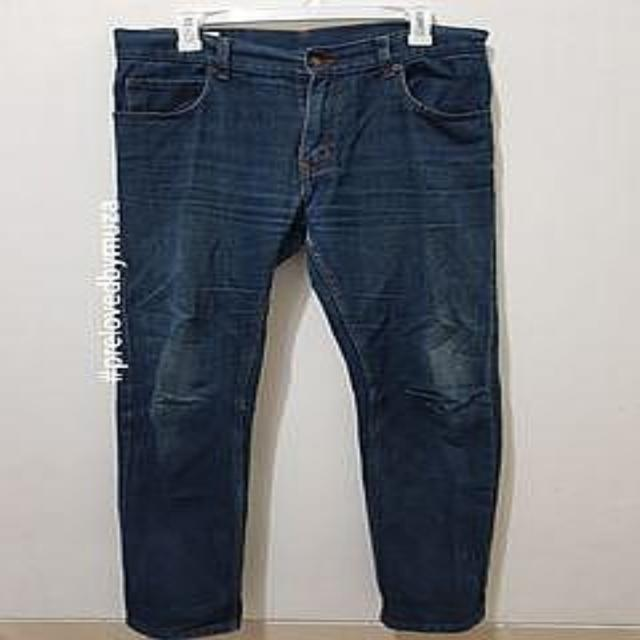TROUSER: (89, 8, 509, 640)
